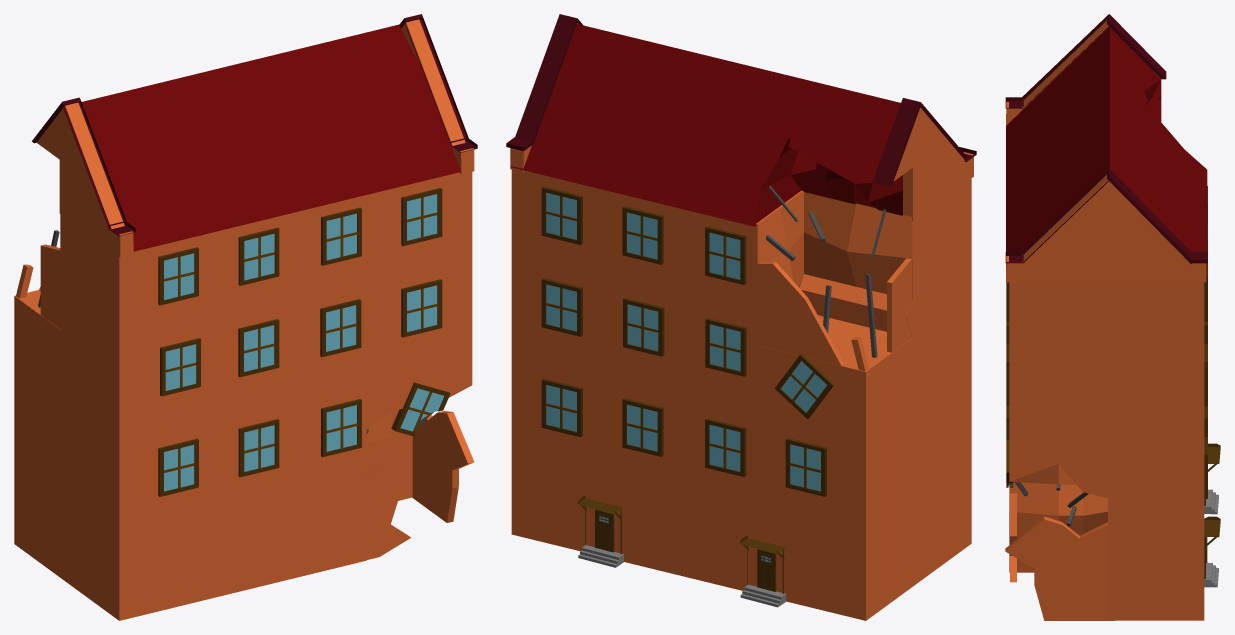
The model's file is prosty4.fbx.
The picture shows the model from 3 angles, left to right: view 1: azimuth 30°, elevation 25°; view 2: azimuth 150°, elevation 25°; view 3: azimuth 270°, elevation 25°; orthographic projection. The views are drawn at different scales.
Visible parts, largest first — view 1: Cube.003, Cube.021, Cube.014, Cube.015, Cube.055, Cube.007, Cube.112, Cube.019, Cube.028, Cube.124, Cube.100, Cube.106 (+19 smaller); view 2: Cube.003, Cube.021, Cube.007, Cube.015, Cube.028, Cube.019, Cube.174, Cube.175, Cube.051, Cube.143, Cube.131, Cube.154 (+19 smaller); view 3: Cube.003, Cube.021, Cube.055, Cube.014, Cube.028, Cube.019, Cube.015, Cube.175, Cube.174, Cube.017.
Part boxes in pixels (box(x1,y1,x2,y2)): Cube.003: box(14, 172, 472, 620); Cube.021: box(81, 23, 460, 251); Cube.014: box(366, 411, 474, 559); Cube.015: box(36, 102, 133, 257); Cube.055: box(401, 19, 474, 174); Cube.007: box(14, 244, 60, 328); Cube.112: box(391, 382, 450, 436); Cube.019: box(32, 97, 135, 236); Cube.028: box(400, 14, 477, 152); Cube.124: box(165, 344, 196, 390); Cube.100: box(164, 253, 194, 299); Cube.106: box(244, 425, 274, 471); Cube.003: box(511, 169, 971, 620); Cube.021: box(510, 24, 902, 226); Cube.007: box(757, 258, 911, 376); Cube.015: box(893, 107, 973, 221); Cube.028: box(506, 14, 582, 151); Cube.019: box(872, 98, 976, 186); Cube.174: box(739, 535, 786, 607); Cube.175: box(577, 496, 623, 567); Cube.051: box(766, 186, 886, 357); Cube.143: box(709, 425, 740, 471); Cube.131: box(627, 304, 658, 351); Cube.154: box(709, 232, 740, 279); Cube.003: box(1009, 282, 1204, 620); Cube.021: box(1006, 26, 1207, 279); Cube.055: box(1006, 175, 1206, 282); Cube.014: box(1005, 493, 1114, 620); Cube.028: box(1005, 169, 1207, 263); Cube.019: box(1005, 14, 1166, 108); Cube.015: box(1006, 20, 1160, 125); Cube.175: box(1204, 516, 1220, 587); Cube.174: box(1204, 443, 1220, 514); Cube.017: box(1014, 482, 1088, 526).
Size of the model in its own units: 698 by 893 by 391.
Materials: 87 (87 with a texture image).
